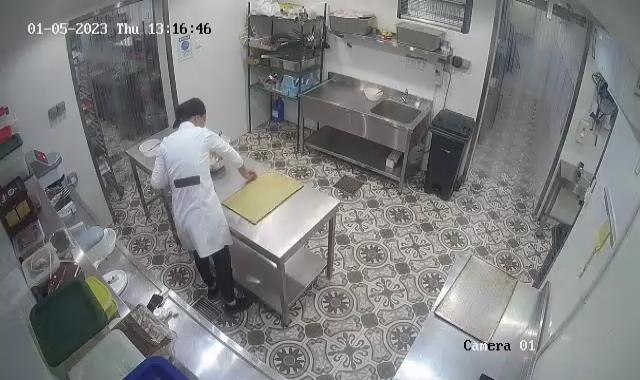no_hairnet: (174, 99, 206, 124)
